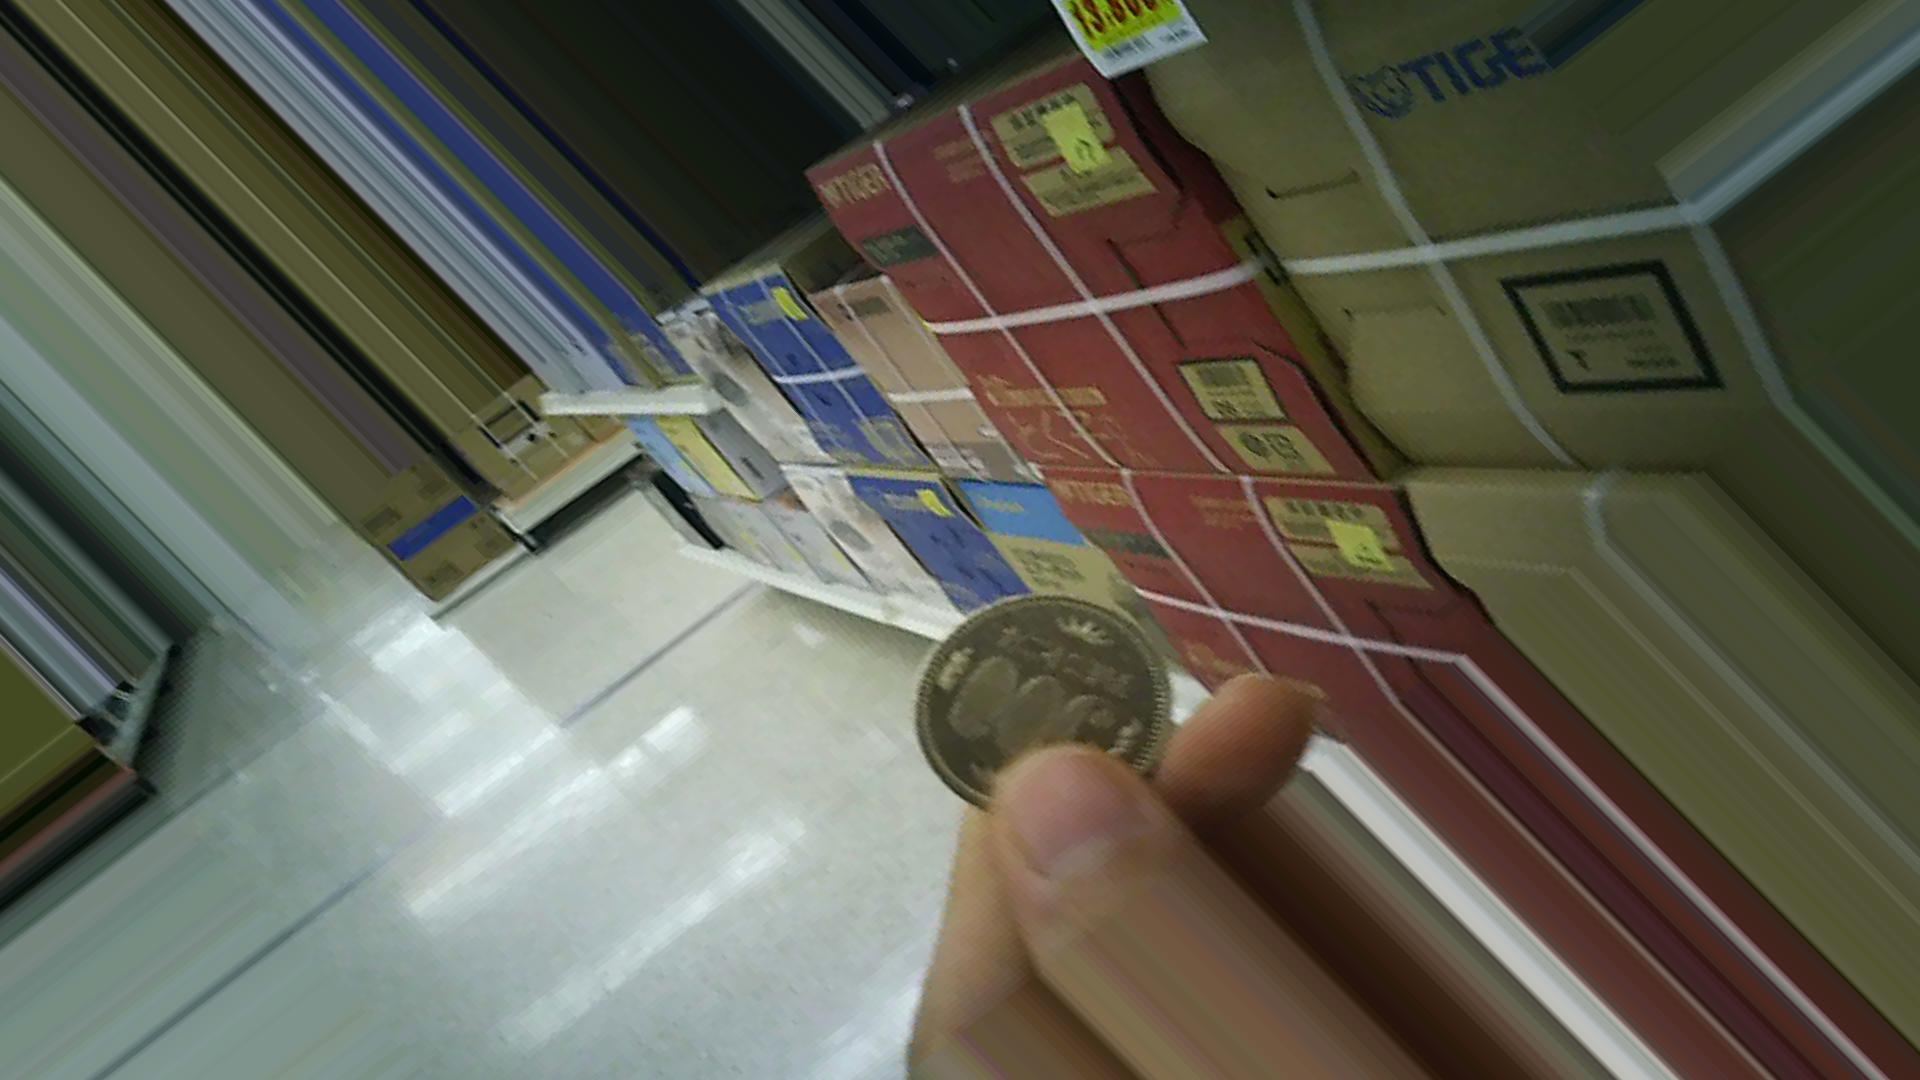500 Yen: (913, 589, 1168, 798)
